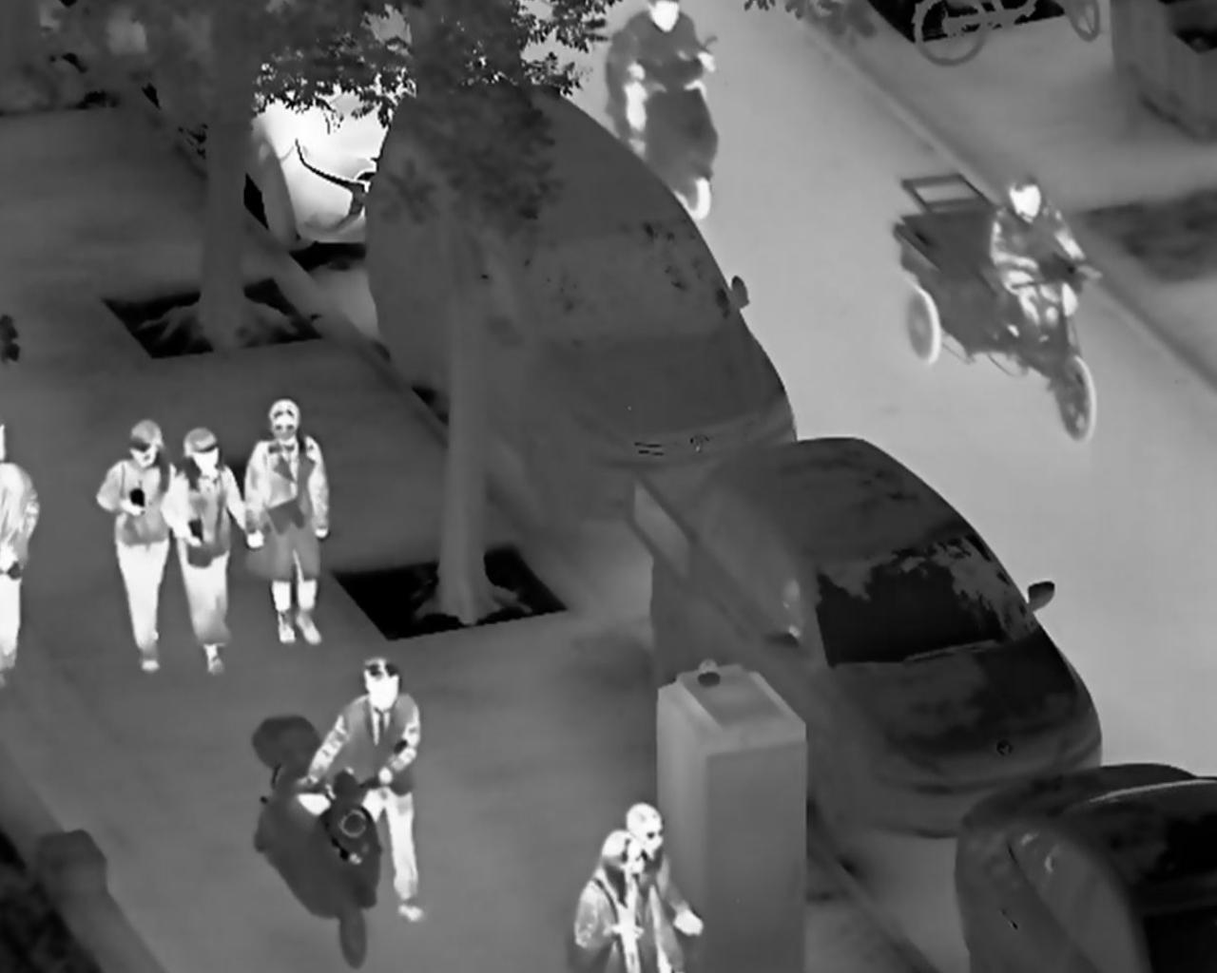person: (304, 656, 428, 927), (91, 419, 179, 674), (245, 398, 334, 646), (161, 424, 245, 678), (984, 175, 1099, 330), (578, 826, 687, 973)
